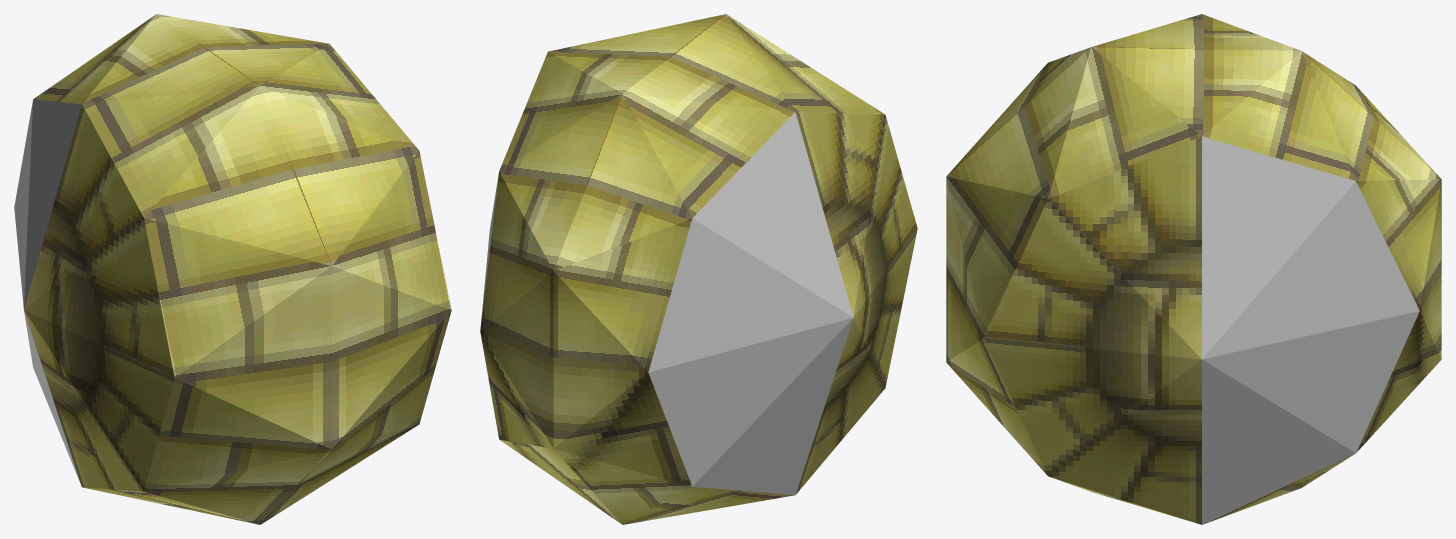
The model's file is BR_Sandshrew.obj.
3 views of the same model, side by side, from view 1: azimuth 30°, elevation 25°; view 2: azimuth 150°, elevation 25°; view 3: azimuth 270°, elevation 25° (orthographic).
Parts seen in each view (by area): view 1: sand; view 2: sand; view 3: sand.
Boxes of the visible parts, x1,y1,x2,y2 form: sand: (14,14,451,524); sand: (480,14,917,524); sand: (946,14,1441,524).
Size of the model in its own units: 3.56 by 4.11 by 4.14.
